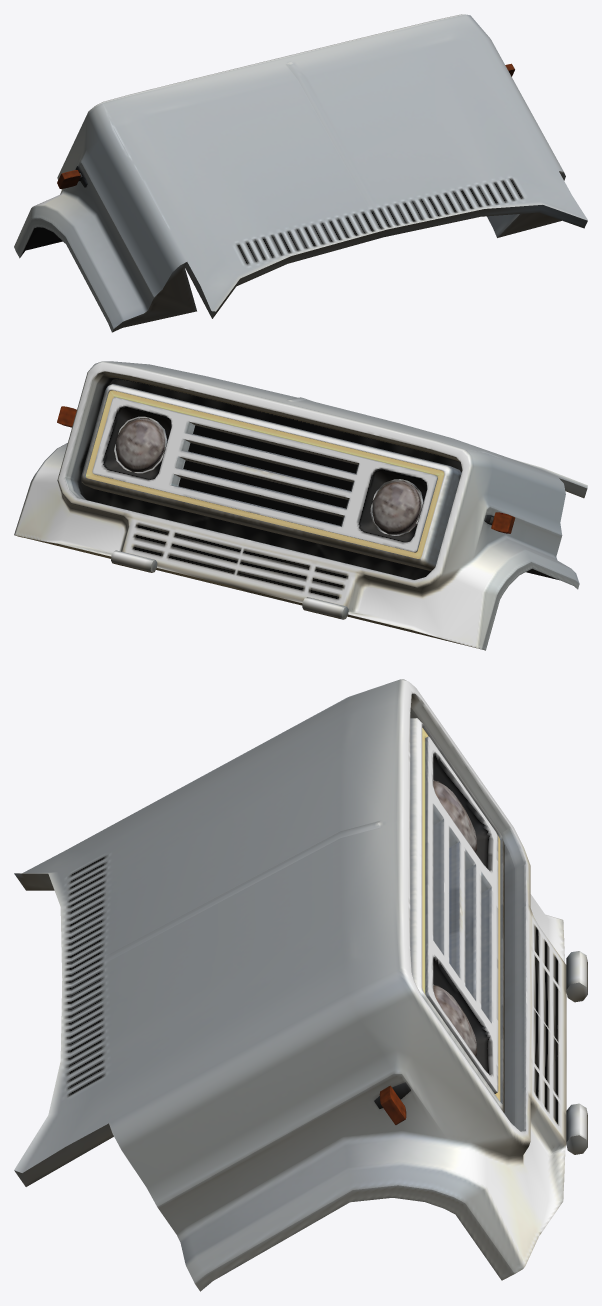
File: C70Hood_WorldItem.fbx
The picture shows the model from 3 angles, top to bottom: view 1: azimuth 30°, elevation 25°; view 2: azimuth 150°, elevation 25°; view 3: azimuth 270°, elevation 25°; orthographic projection. The views are drawn at different scales.
Visible parts, largest first — view 1: Hood_obj; view 2: Hood_obj; view 3: Hood_obj.
Boxes of the visible parts, x1,y1,x2,y2 form: Hood_obj: (14,14,587,332); Hood_obj: (14,361,587,650); Hood_obj: (14,679,587,1291).
Bounding box in the file's own units: 3.24 × 1.16 × 2.11.
